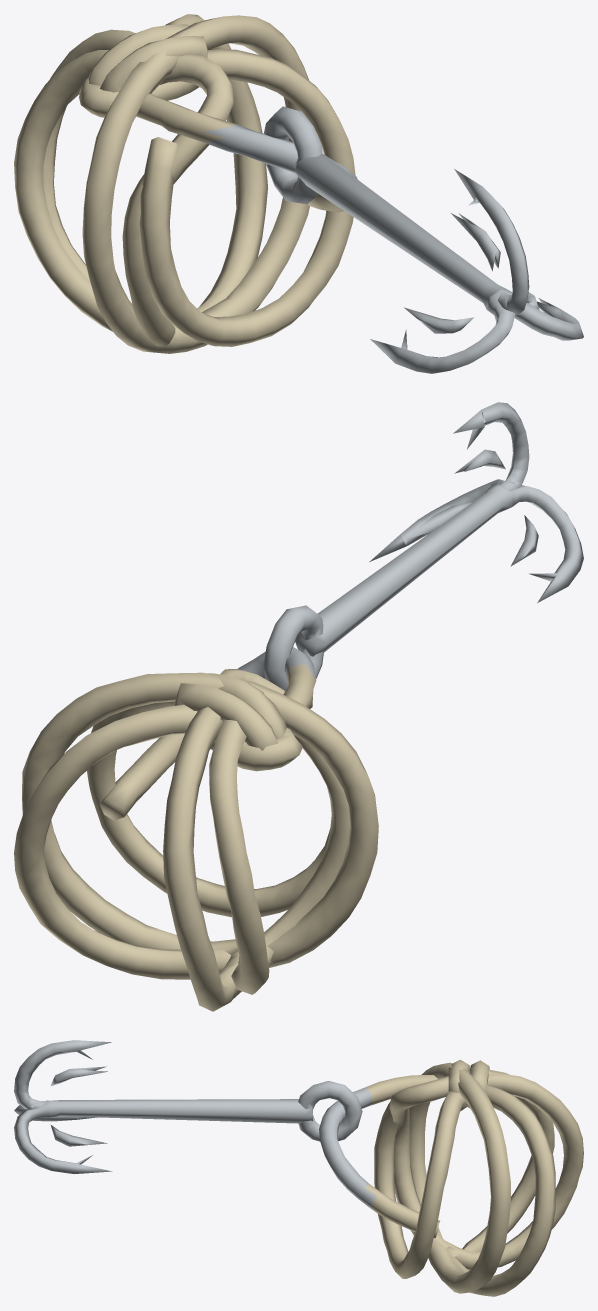
File: grappling_hook_rope.glb
The picture shows the model from 3 angles, top to bottom: view 1: azimuth 30°, elevation 25°; view 2: azimuth 150°, elevation 25°; view 3: azimuth 270°, elevation 25°; orthographic projection. The views are drawn at different scales.
Visible parts, largest first — view 1: grappling_hook_rope; view 2: grappling_hook_rope; view 3: grappling_hook_rope.
Boxes of the visible parts, x1,y1,x2,y2 form: grappling_hook_rope: [14, 14, 583, 373]; grappling_hook_rope: [14, 402, 583, 1011]; grappling_hook_rope: [14, 1040, 583, 1296].
Bounding box in the file's own units: 0.0952 × 0.1118 × 0.2363.
